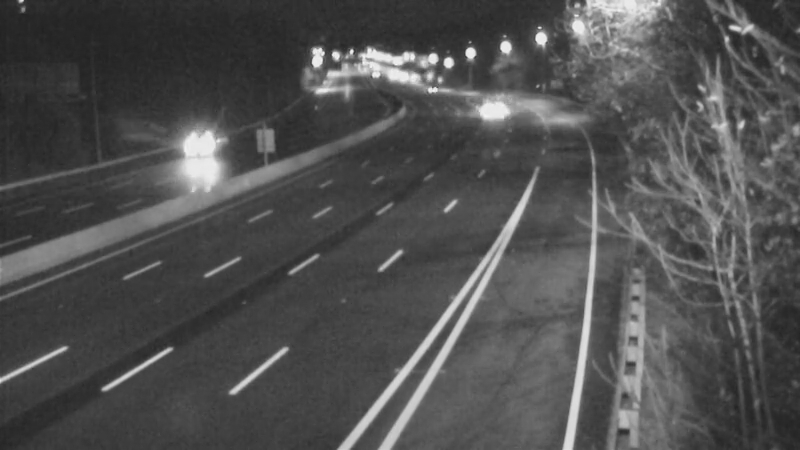vehicle: (407, 65, 457, 115), (466, 80, 516, 130), (177, 121, 227, 171)
